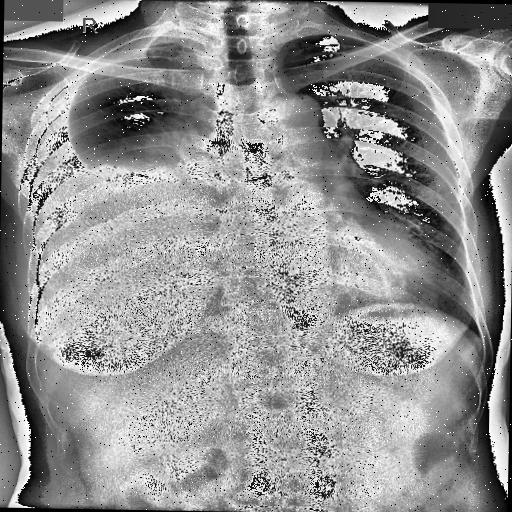10- Pleural effusion: (31, 30, 217, 332), (26, 24, 230, 280), (26, 64, 218, 314)
7- Lung Opacity: (92, 91, 222, 176), (98, 110, 214, 174), (94, 118, 204, 170)
